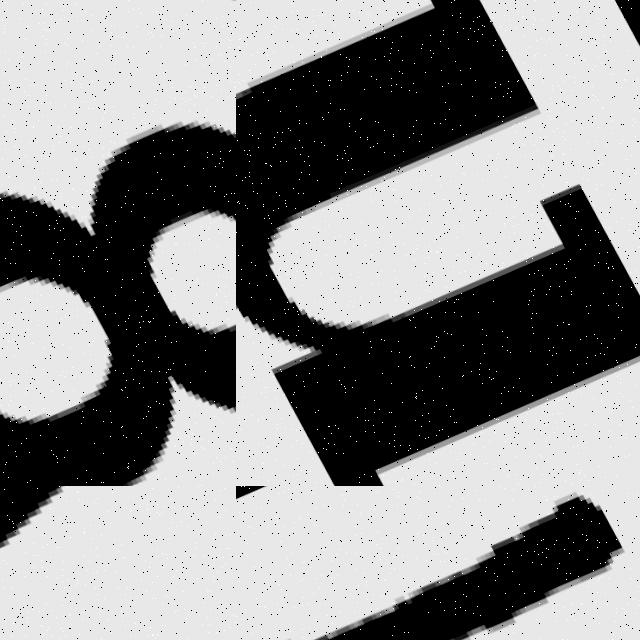8: (0, 45, 236, 486)
R: (236, 486, 640, 640)
U: (236, 0, 640, 486)
X: (0, 486, 236, 636)
